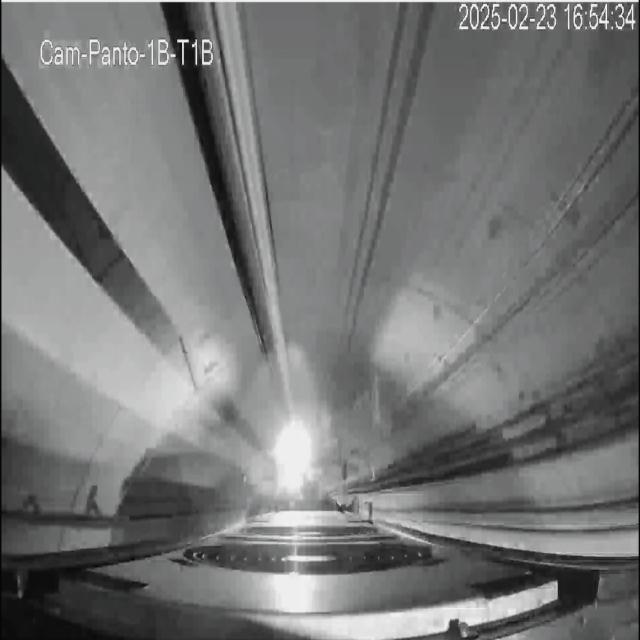Camera Stamp: (37, 31, 217, 70)
Date Stamp: (453, 2, 635, 35)
Sparks: (242, 392, 330, 522)
